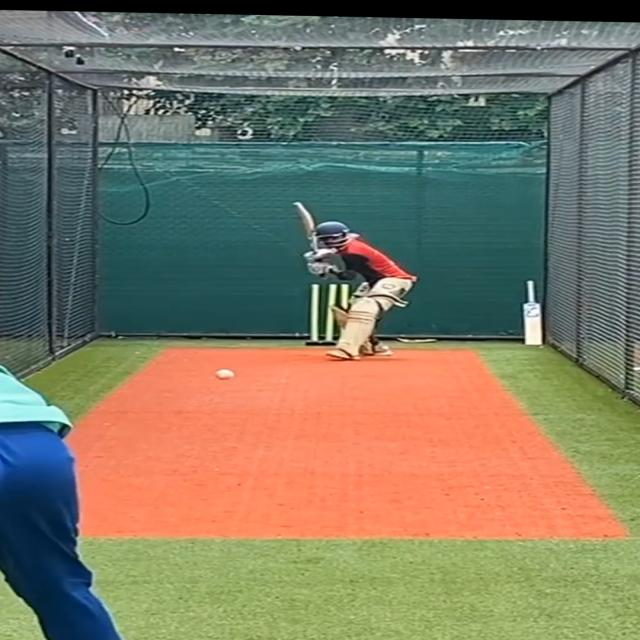ball: (212, 365, 238, 383)
stump: (303, 282, 357, 348)
